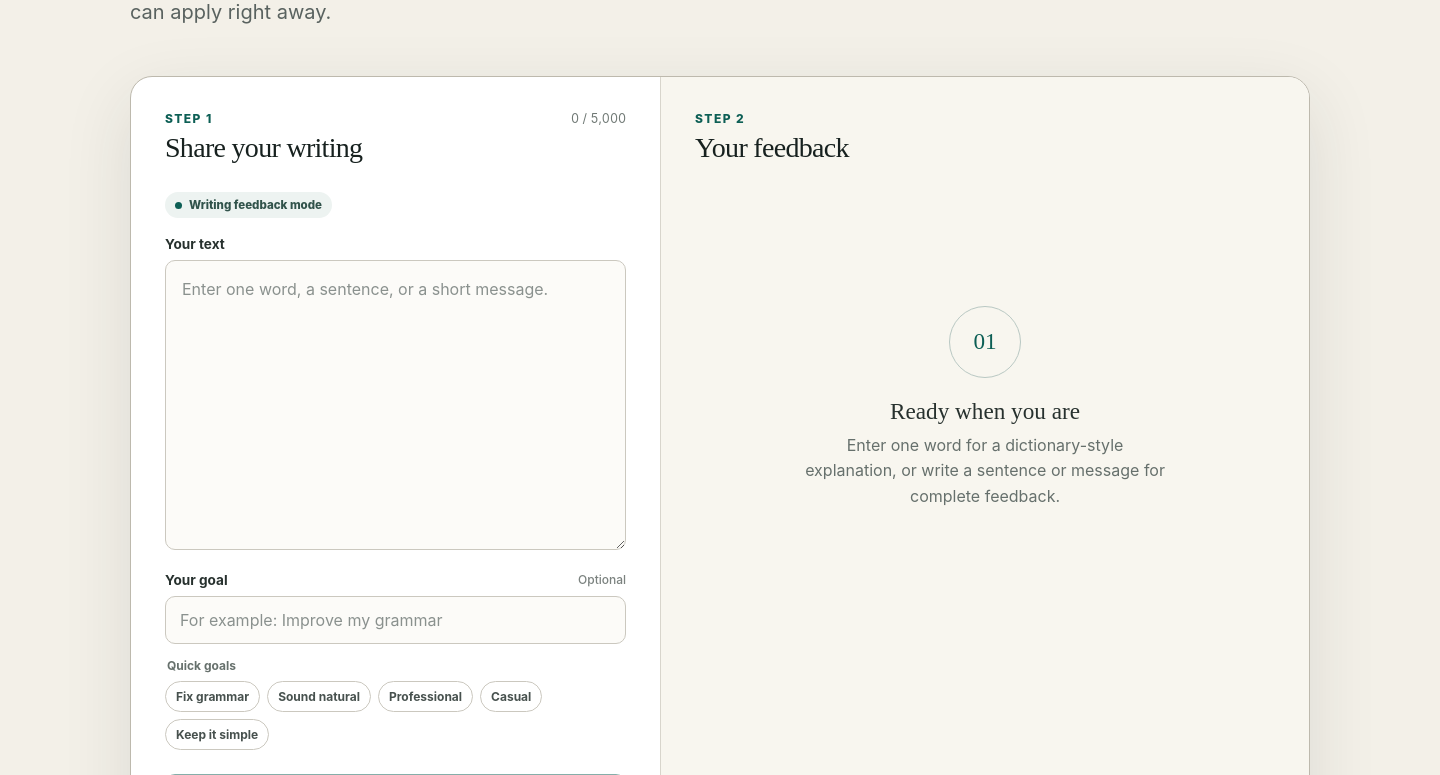
Test case: Writing Coach interactions › shows a simple no-corrections state without an empty suggestions section
(page scrolled)
Type "I need to leave early today." into the text box labelled "Your text".
click(396, 405); type("I need to leave early today.")  # box left=165, top=260, right=626, bottom=550
(page scrolled)
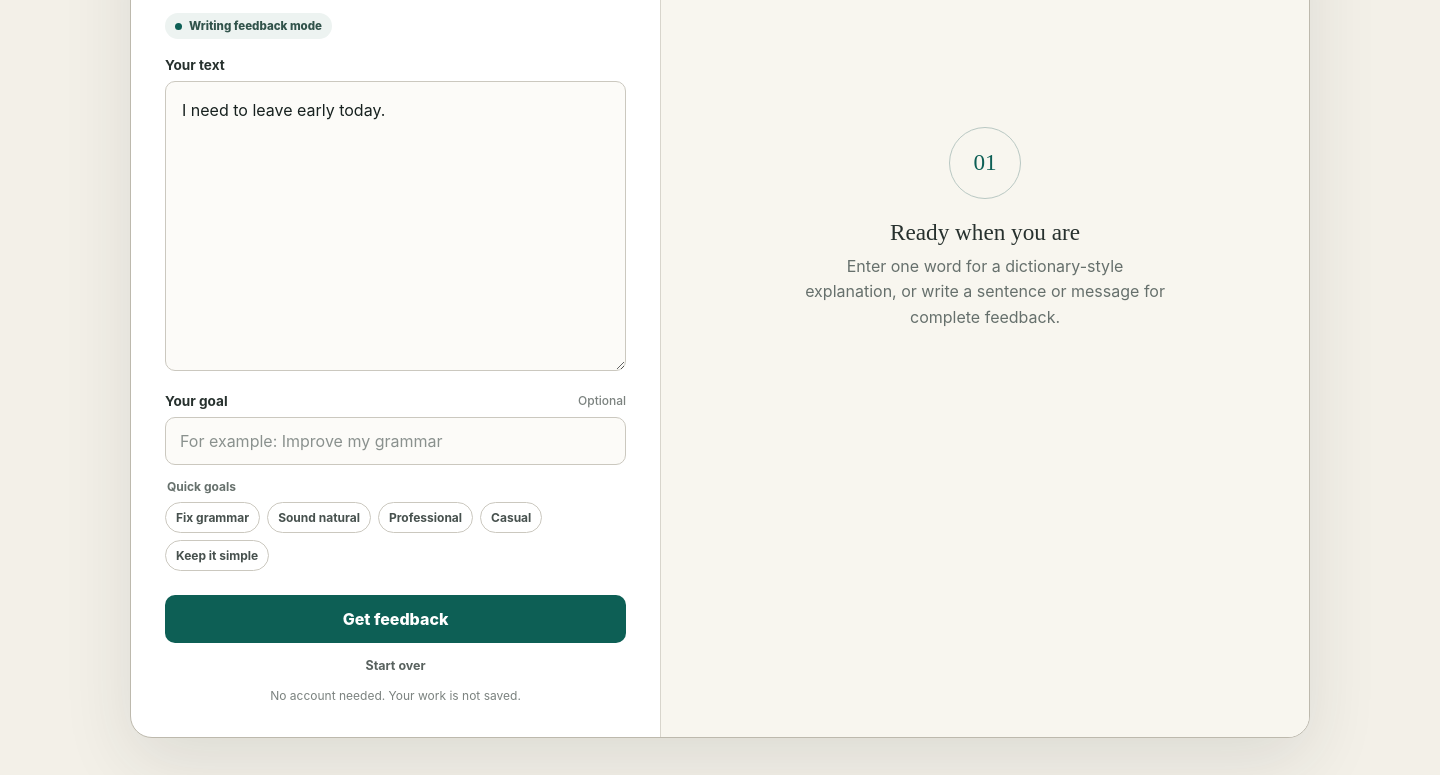
Click the button "Get feedback".
click(396, 619)  # box left=165, top=595, right=626, bottom=643
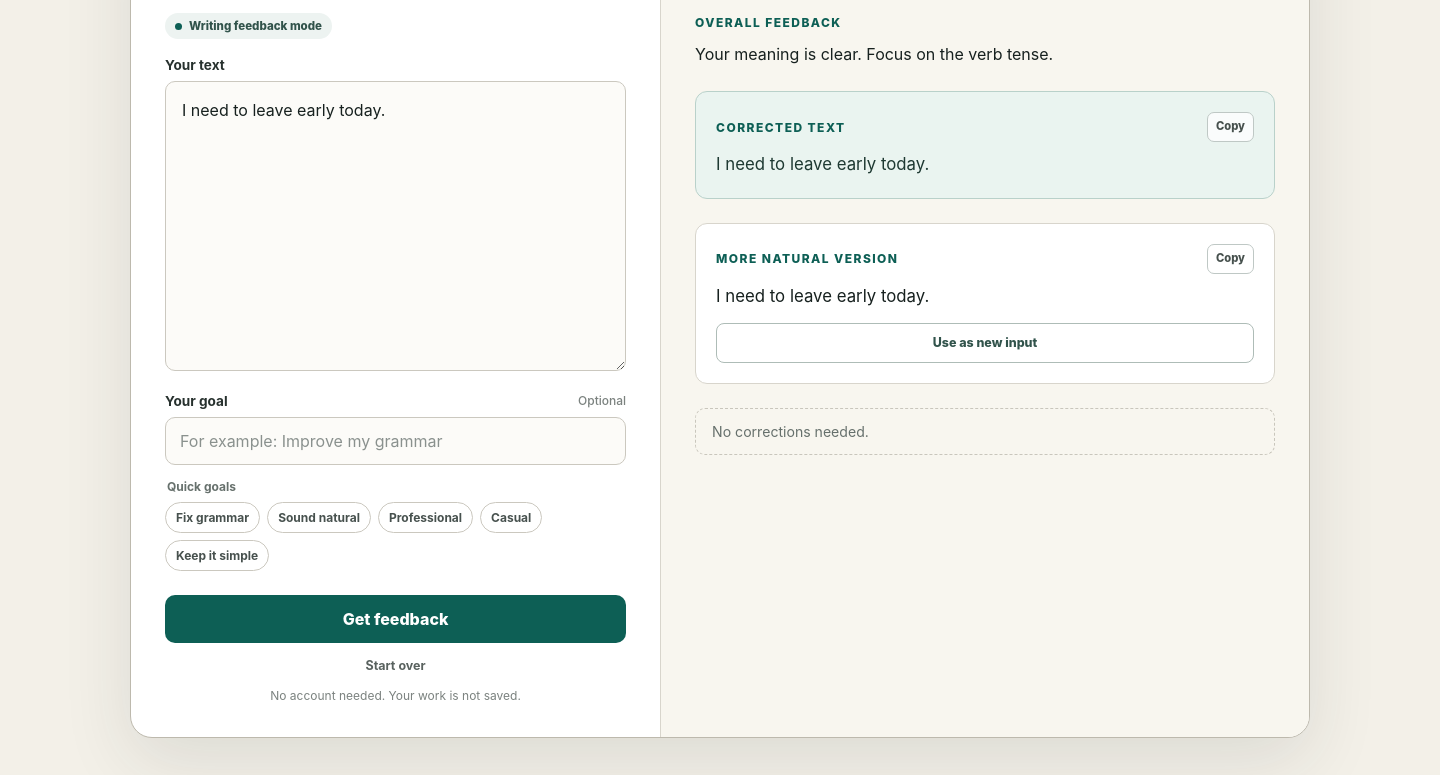
Now the text "No corrections needed." is shown, box left=695, top=408, right=1275, bottom=455
